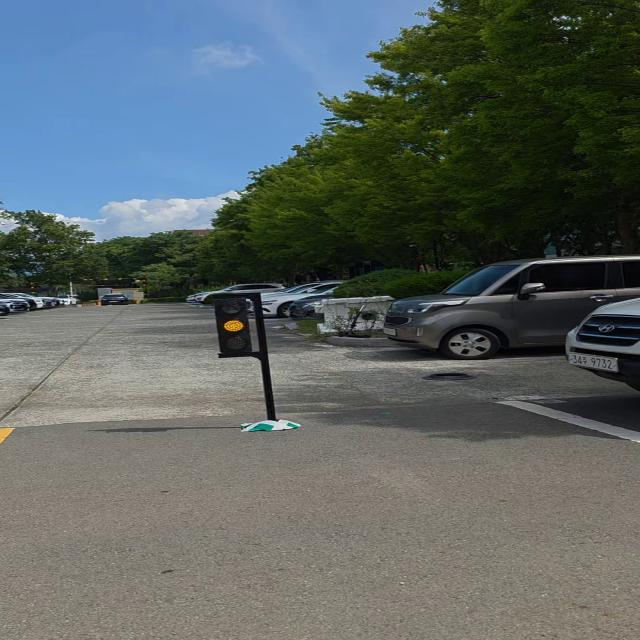yellow: (210, 294, 262, 359)
